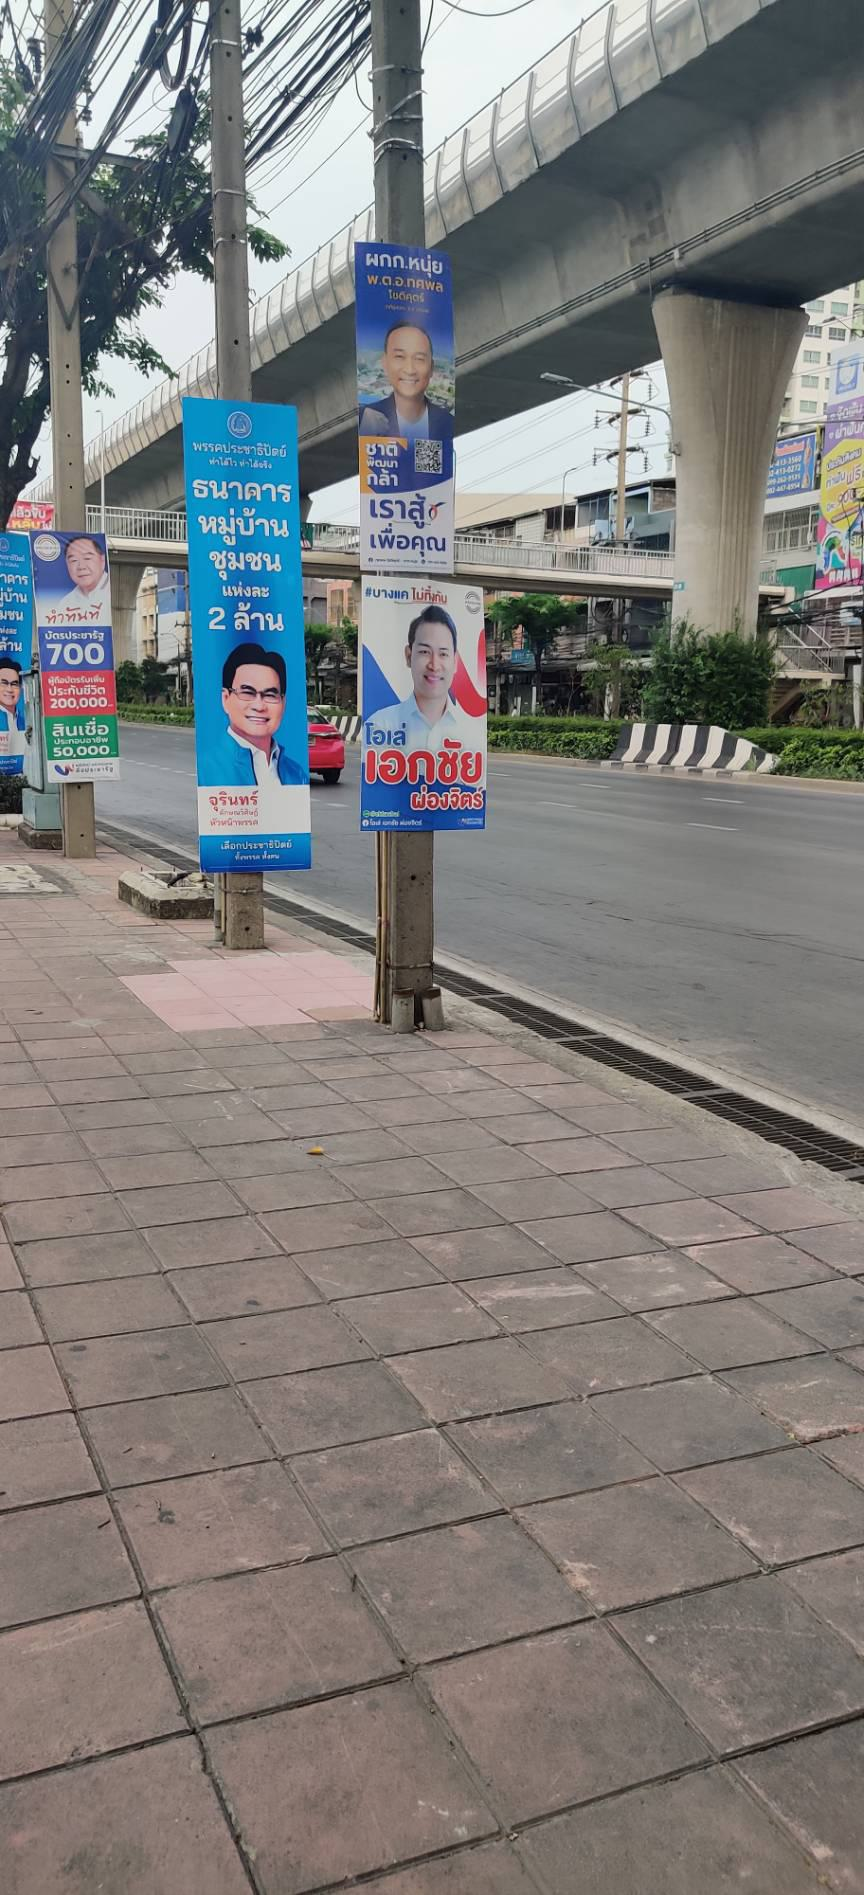Banner: (175, 387, 319, 857), (350, 228, 456, 573), (354, 558, 486, 830), (33, 529, 118, 781)
